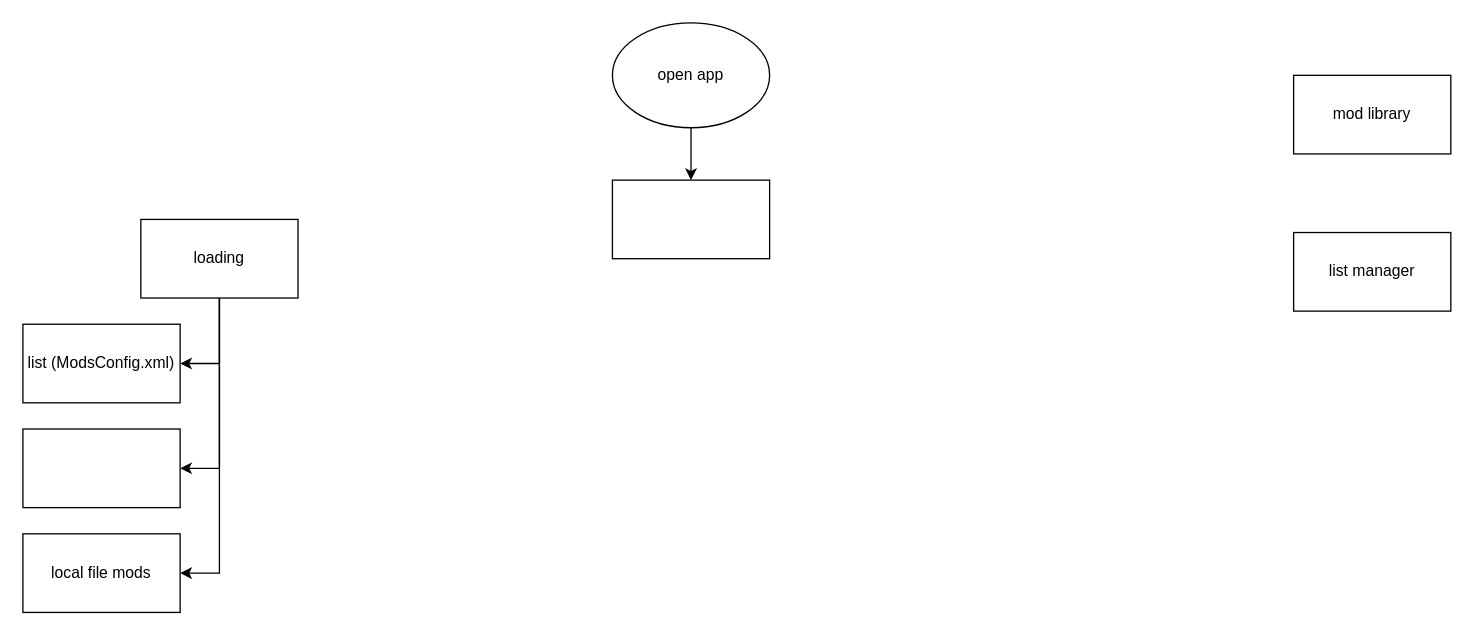
This 1474x635 diagram has some shape labels left out. The shapes that lost their labels are listed below. From the top down, each one's box as (x1, y1, x2, y2) in pixels, then its label:
(611, 179, 770, 259): select list to edit
(22, 428, 180, 508): steam workshop mods
